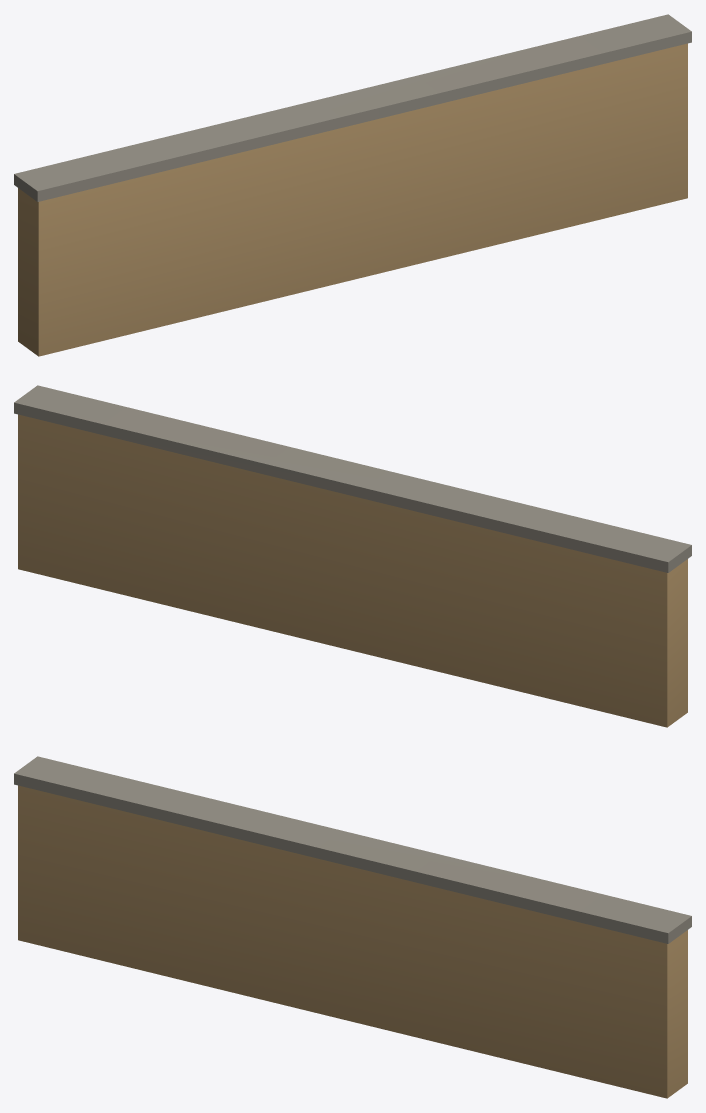
The model's file is colonial_patio_wall_lod0.glb.
3 renders of one model, top to bottom at view 1: azimuth 30°, elevation 25°; view 2: azimuth 150°, elevation 25°; view 3: azimuth 330°, elevation 25°, orthographic.
Parts seen in each view (by area): view 1: GEO-Arch_colonial_patio_wall_LOD0; view 2: GEO-Arch_colonial_patio_wall_LOD0; view 3: GEO-Arch_colonial_patio_wall_LOD0.
Boxes of the visible parts, box(x1,y1,x2,y2) form: GEO-Arch_colonial_patio_wall_LOD0: box(14, 14, 691, 356); GEO-Arch_colonial_patio_wall_LOD0: box(14, 385, 691, 727); GEO-Arch_colonial_patio_wall_LOD0: box(14, 756, 691, 1098).
Bounding box in the file's own units: 10.08 × 2.46 × 0.63.
